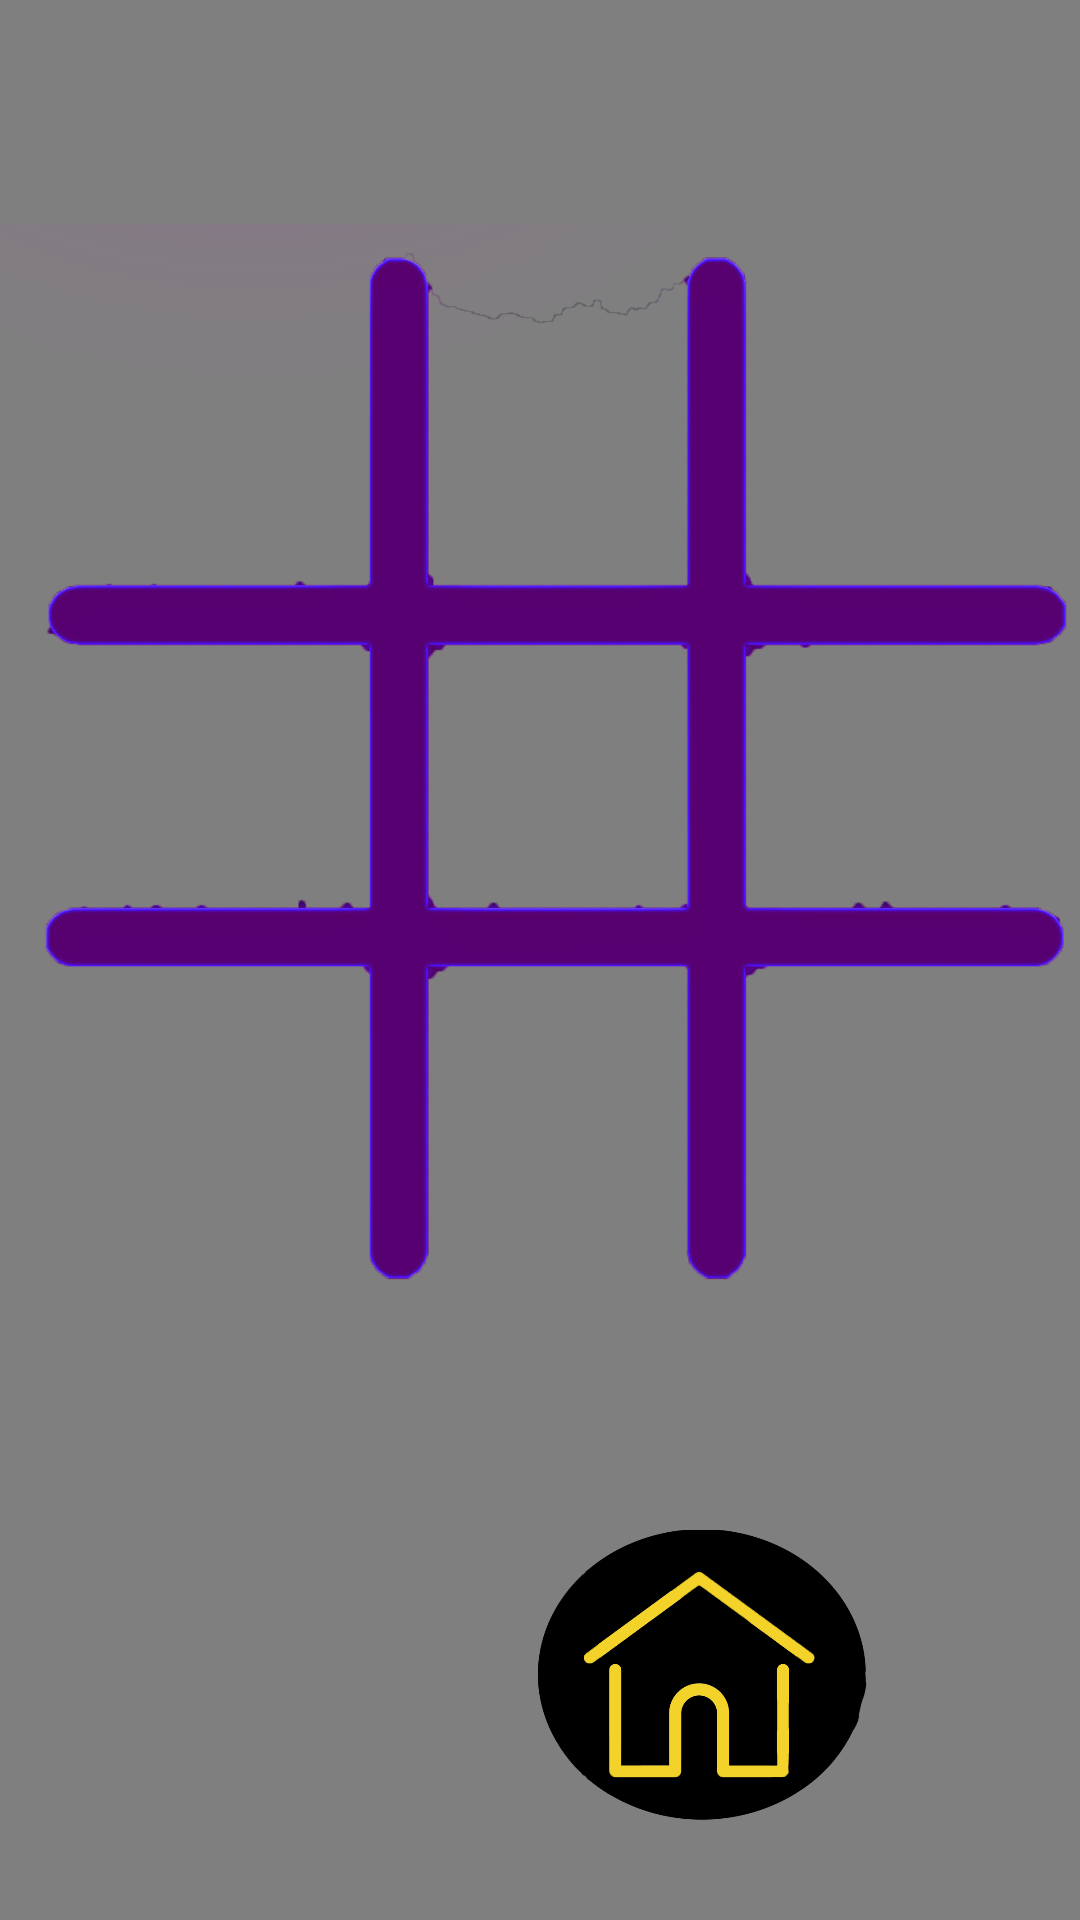

Icons on this 1080px×1920px Android screen, each with the point to tap as (x,y):
home: (702,1675)
